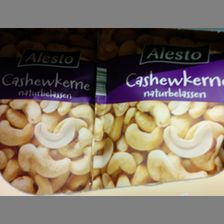nuts: (92, 30, 223, 188), (2, 35, 94, 194)
